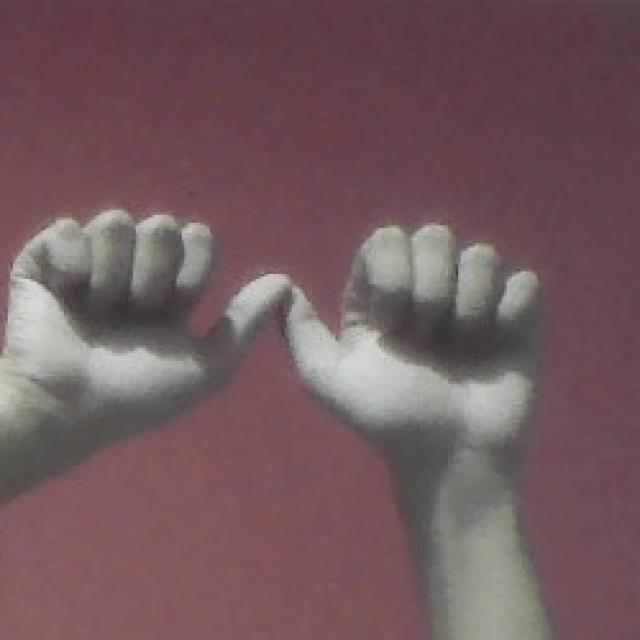Alphabet-A: (15, 200, 546, 467)
